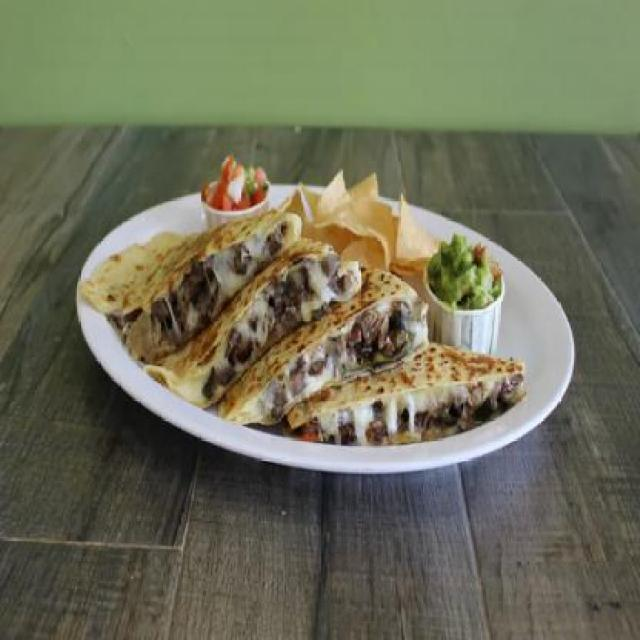chicken quesadilla: (77, 205, 528, 458)
guacamole: (423, 239, 508, 346)
nachos: (278, 162, 438, 272)
